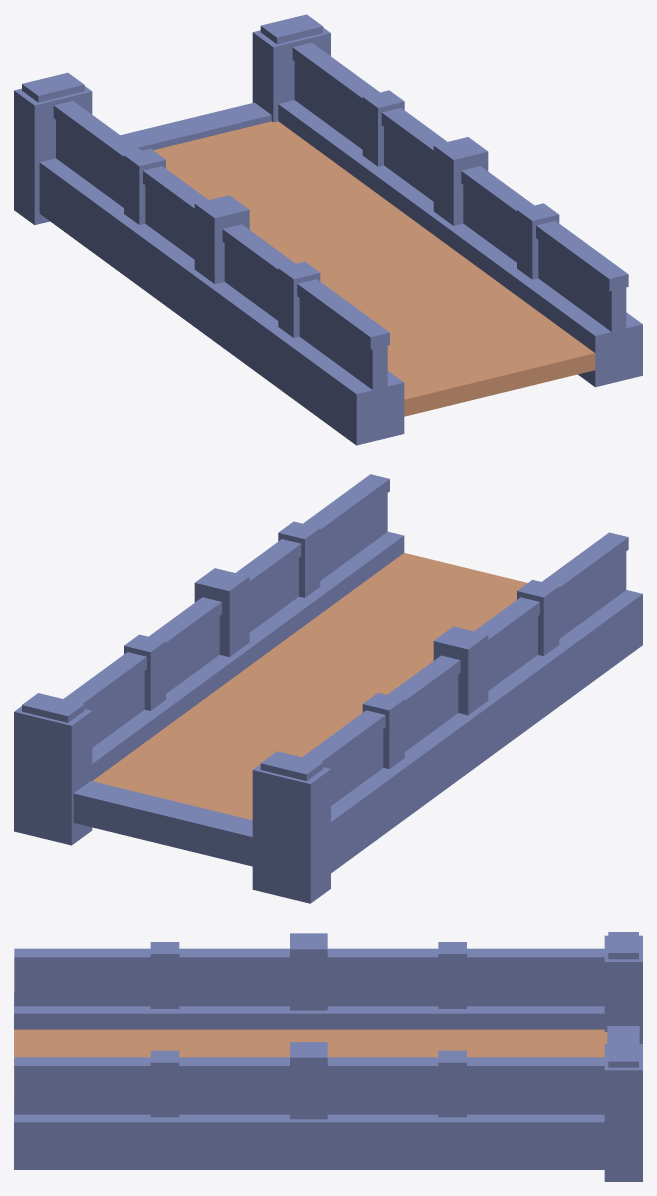
Rendered from bridge_2a_2.fbx.
3 views of the same model, one above another, from view 1: azimuth 30°, elevation 25°; view 2: azimuth 150°, elevation 25°; view 3: azimuth 270°, elevation 25° (orthographic). The views are drawn at different scales.
Parts seen in each view (by area): view 1: bridge_2a_2; view 2: bridge_2a_2; view 3: bridge_2a_2.
Part boxes in pixels (x1=…): bridge_2a_2: x1=14, y1=14, x2=642, y2=445; bridge_2a_2: x1=14, y1=474, x2=642, y2=903; bridge_2a_2: x1=14, y1=932, x2=642, y2=1181.
Size of the model in its own units: 9.94 by 4.09 by 19.59.
